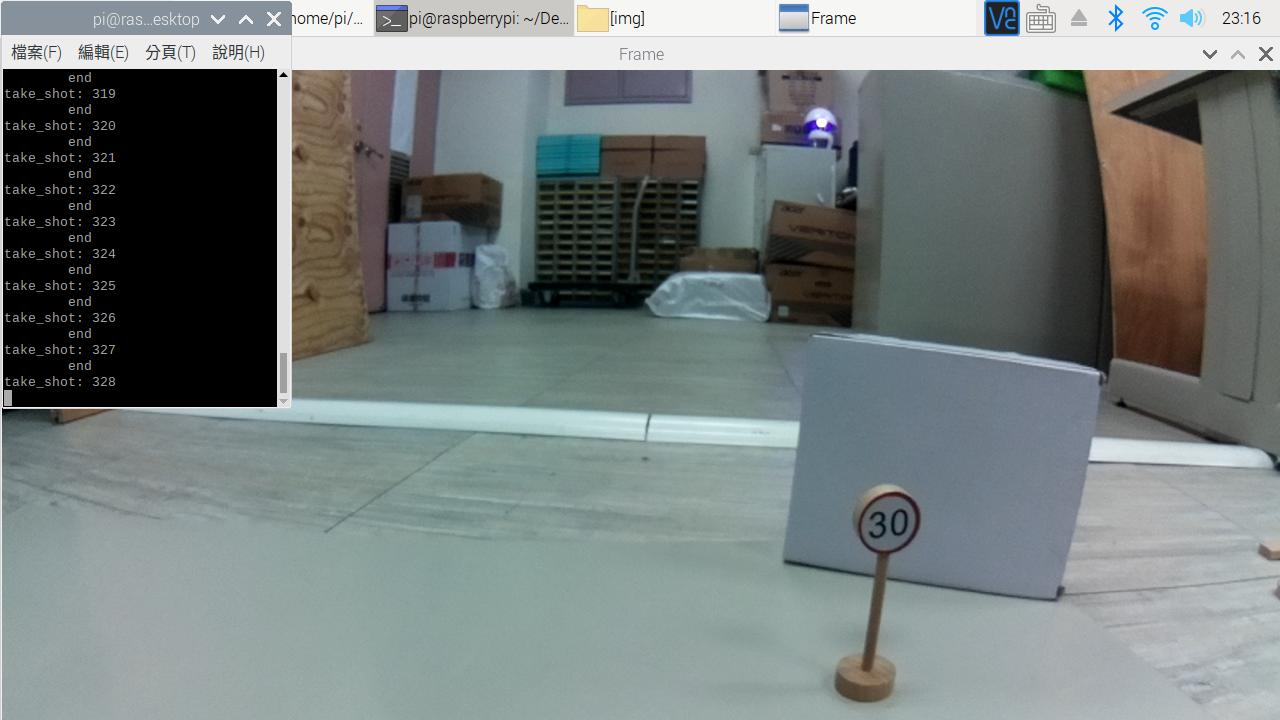Speed30: (851, 482, 937, 566)
